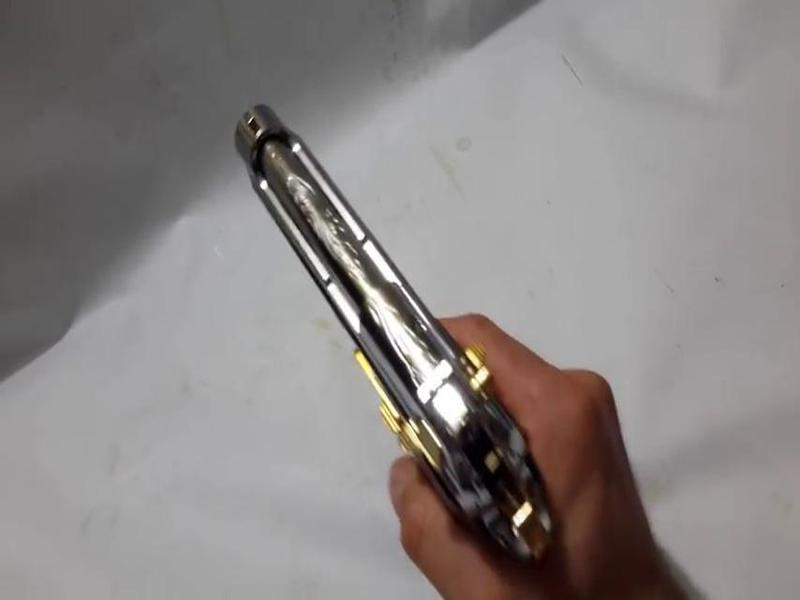Pistola: (197, 85, 572, 591)
